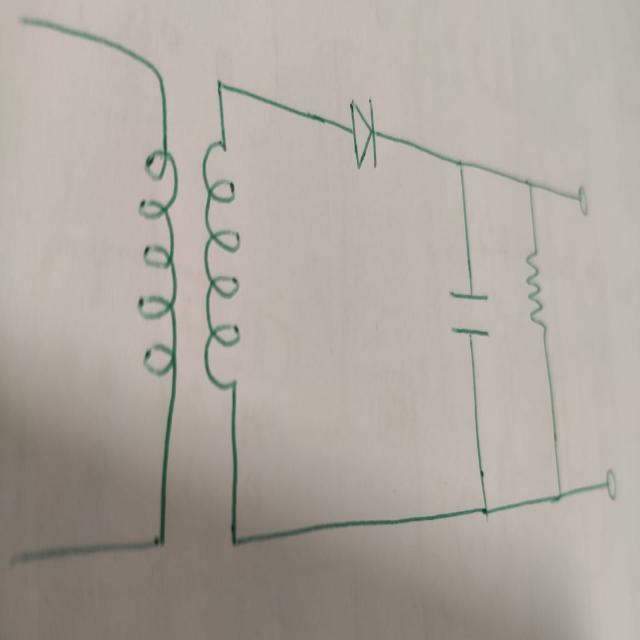capacitor: (451, 286, 490, 342)
diode: (349, 93, 378, 170)
junction: (149, 57, 170, 99), (152, 517, 170, 557), (225, 522, 243, 558), (211, 71, 228, 100), (479, 498, 493, 518), (454, 153, 467, 174), (554, 486, 567, 504), (526, 172, 534, 194)
resistor: (524, 245, 546, 334)
terminal: (4, 538, 30, 579), (14, 4, 38, 38), (602, 468, 620, 502), (572, 181, 590, 214)
transformer: (136, 134, 240, 393)
